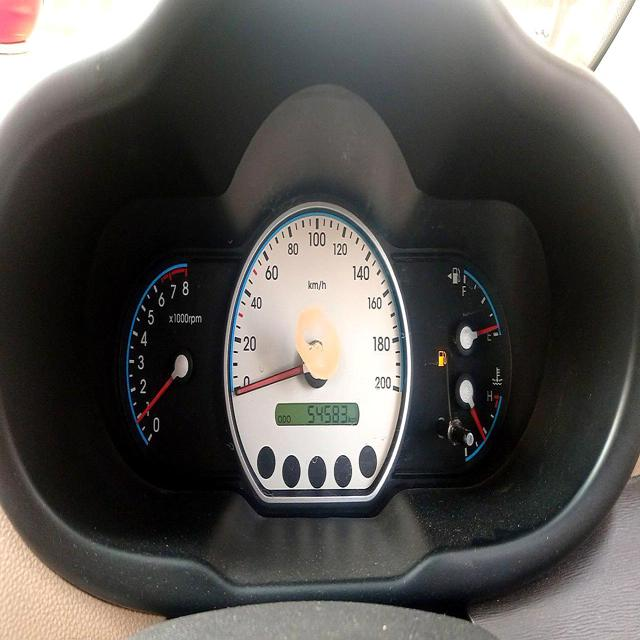odometer: (303, 404, 359, 429)
